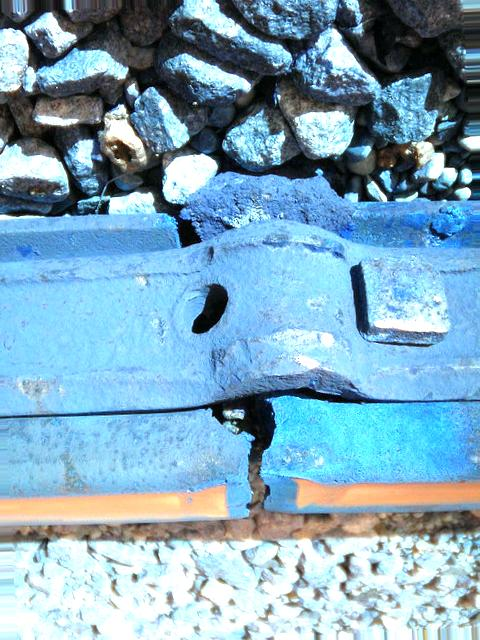tracks_fault: (117, 174, 420, 558)
